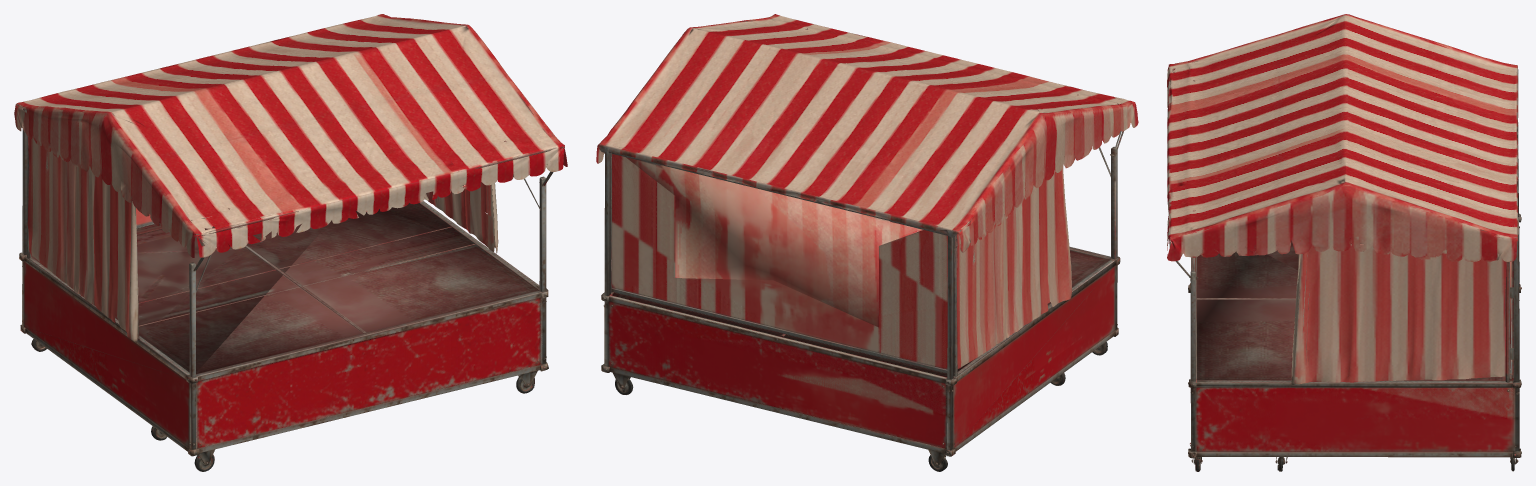
The model's file is torikoju_punainen_raita_meshy.glb.
The picture shows the model from 3 angles, left to right: view 1: azimuth 30°, elevation 25°; view 2: azimuth 150°, elevation 25°; view 3: azimuth 270°, elevation 25°; orthographic projection. The views are drawn at different scales.
Bounding box in the file's own units: 2.54 × 2 × 2.17.
1 material, 1 textured.
